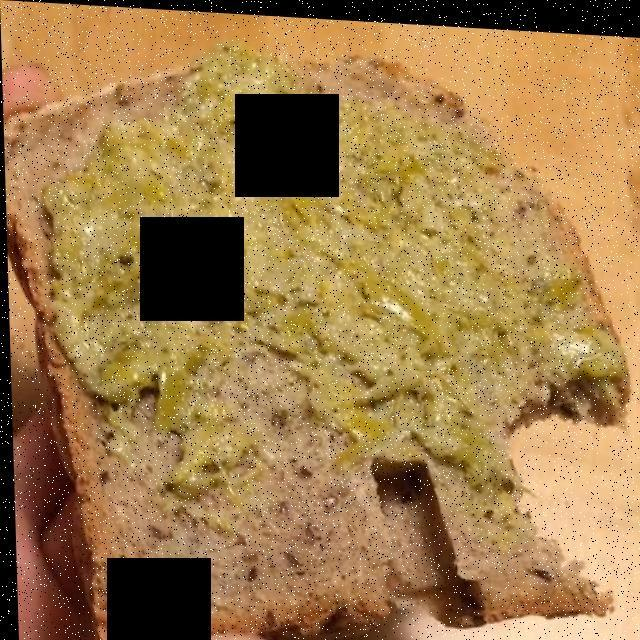bread: (24, 54, 618, 630)
sauce: (103, 118, 501, 374)
